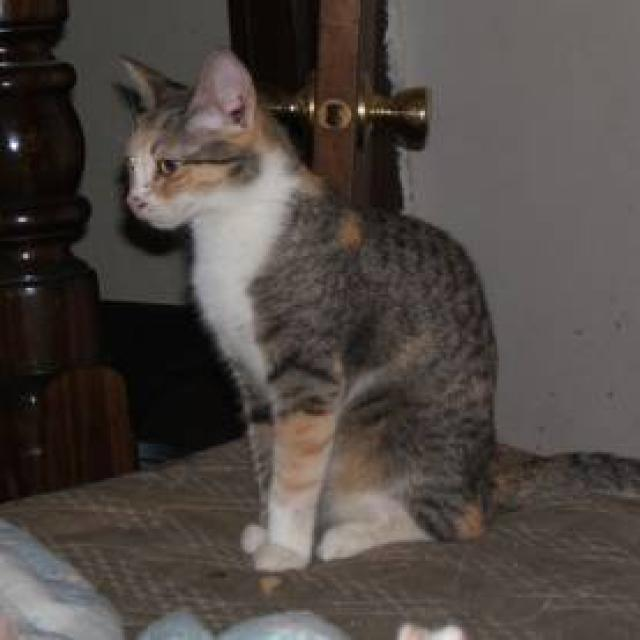Bengal: (116, 49, 259, 228)
